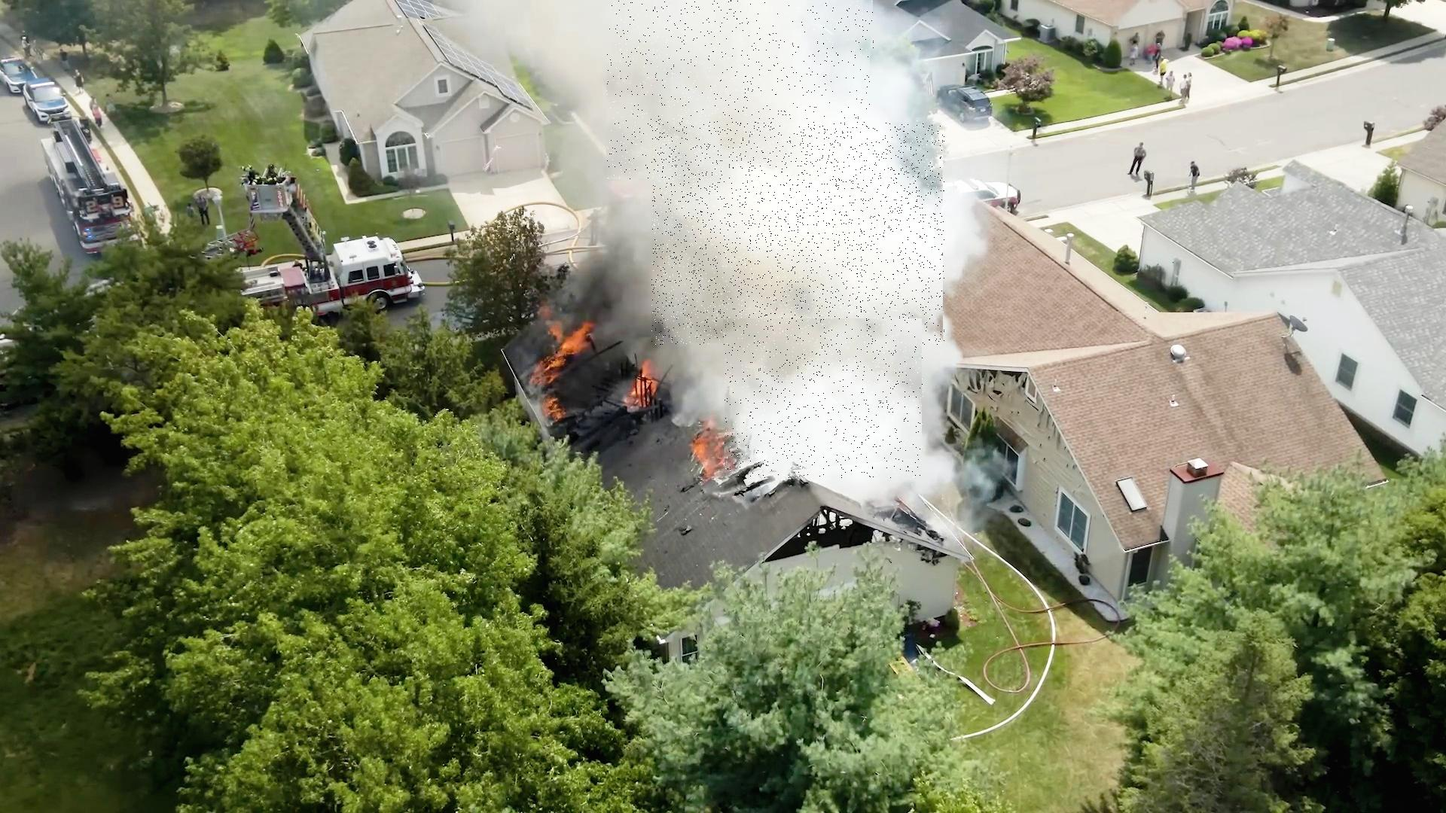smoke: (652, 123, 945, 345), (606, 0, 874, 179), (725, 321, 924, 479)
